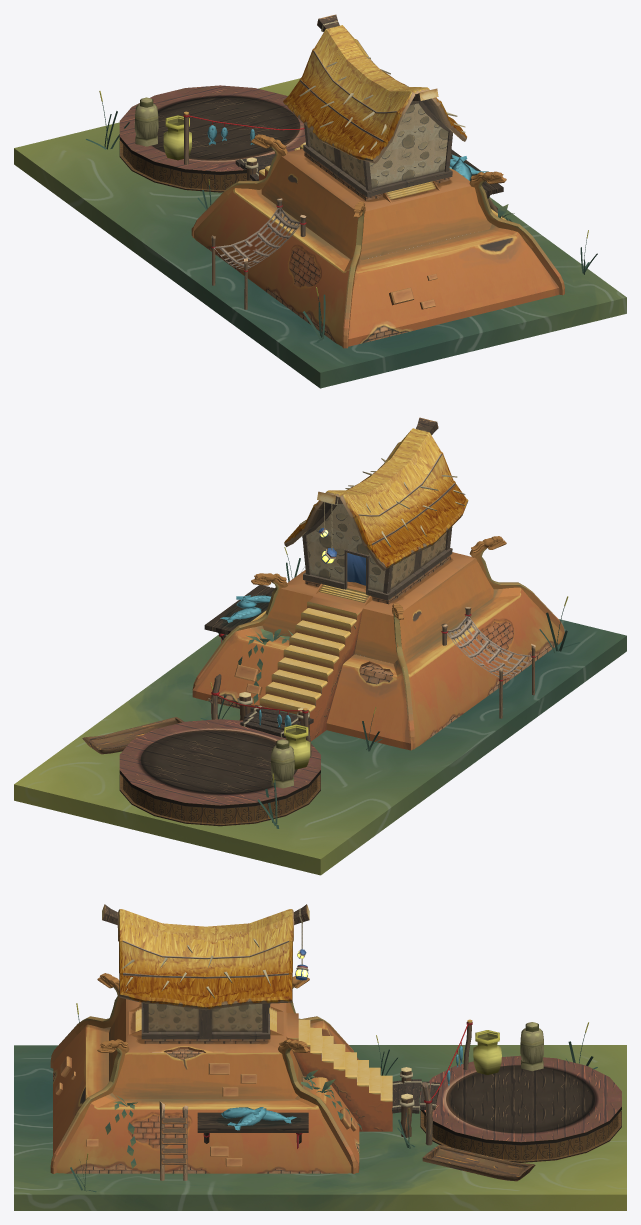
The picture shows the model from 3 angles, top to bottom: view 1: azimuth 30°, elevation 25°; view 2: azimuth 150°, elevation 25°; view 3: azimuth 270°, elevation 25°; orthographic projection.
Parts seen in each view (by area): view 1: Box001_Material #49_0, Plane003, Cylinder010_Material #48_0, Cylinder009, Object002_Material #51_0; view 2: Box001_Material #49_0, Plane003, Cylinder009, Cylinder010_Material #48_0, Object002_Material #51_0; view 3: Box001_Material #49_0, Plane003, Cylinder009, Cylinder010_Material #48_0, Object002_Material #51_0.
Part boxes in pixels (box(x1,y1,x2,y2)): Box001_Material #49_0: box(191, 142, 559, 346); Plane003: box(14, 78, 626, 388); Cylinder010_Material #48_0: box(283, 14, 466, 197); Cylinder009: box(119, 85, 504, 309); Object002_Material #51_0: box(134, 97, 564, 348); Box001_Material #49_0: box(192, 552, 562, 750); Plane003: box(14, 547, 626, 875); Cylinder009: box(119, 585, 535, 826); Cylinder010_Material #48_0: box(284, 417, 468, 600); Object002_Material #51_0: box(82, 536, 564, 788); Box001_Material #49_0: box(53, 999, 440, 1173); Plane003: box(14, 1003, 626, 1210); Cylinder009: box(159, 1019, 621, 1180); Cylinder010_Material #48_0: box(102, 904, 309, 1039); Object002_Material #51_0: box(50, 973, 543, 1181).
Size of the model in its own units: 54.4 by 38.06 by 92.89.
Materials: 5 (5 with a texture image).
